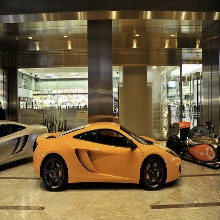no damage: (32, 122, 182, 193), (1, 120, 49, 167)
